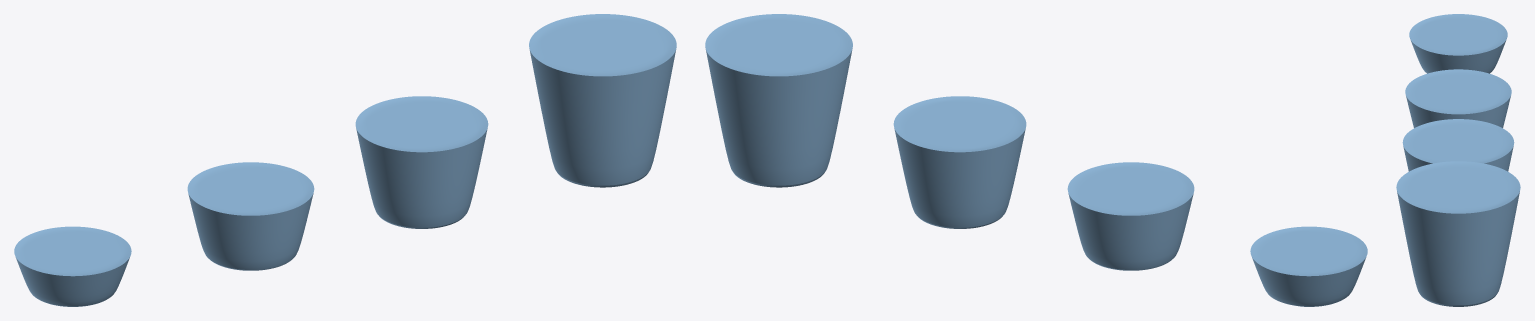
Rendered from water.fbx.
3 renders of one model, left to right at view 1: azimuth 30°, elevation 25°; view 2: azimuth 150°, elevation 25°; view 3: azimuth 270°, elevation 25°, orthographic. The views are drawn at different scales.
Visible parts, largest first — view 1: water model.003, water model.002, water model.001, water model; view 2: water model.003, water model.002, water model.001, water model; view 3: water model.003, water model.001, water model, water model.002.
Part boxes in pixels (x1,y1,x2,y2): water model.003: [529, 14, 676, 187]; water model.002: [355, 96, 488, 228]; water model.001: [187, 162, 314, 270]; water model: [14, 226, 131, 306]; water model.003: [705, 14, 852, 187]; water model.002: [893, 96, 1026, 228]; water model.001: [1067, 162, 1194, 270]; water model: [1250, 226, 1367, 306]; water model.003: [1396, 161, 1520, 306]; water model.001: [1405, 69, 1511, 127]; water model: [1409, 14, 1507, 73]; water model.002: [1402, 119, 1514, 171].
Size of the model in its own units: 101 by 18.4 by 20.12.
